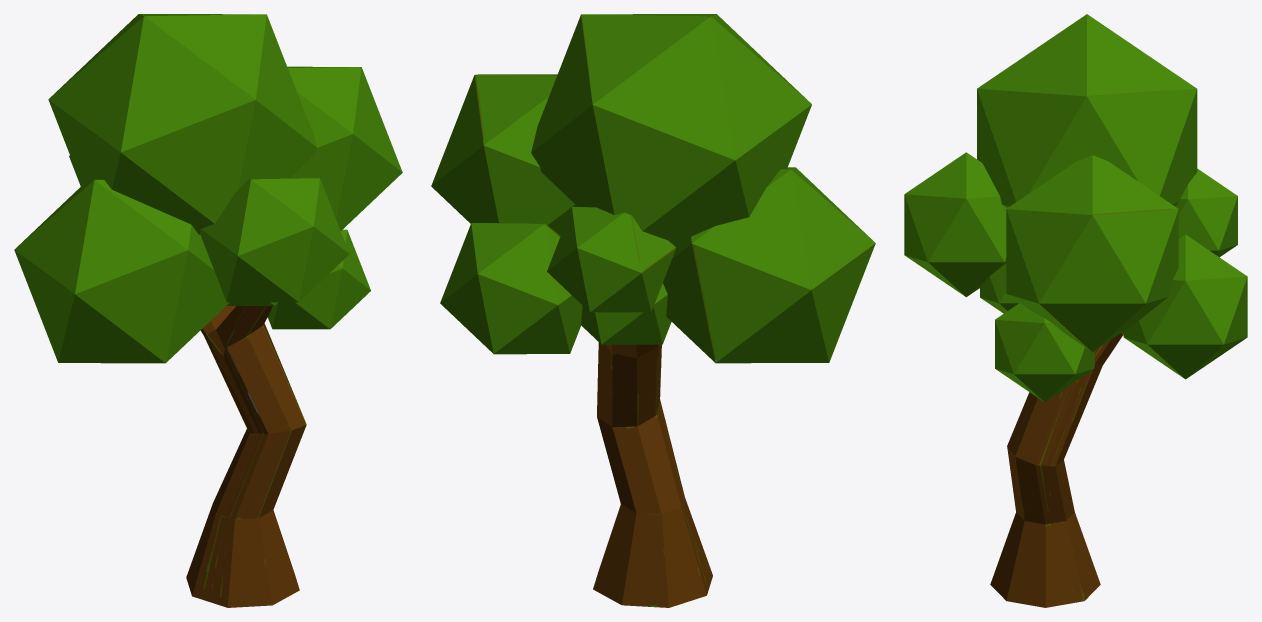
The model's file is TestTree_20241213_151107.fbx.
3 renders of one model, left to right at view 1: azimuth 30°, elevation 25°; view 2: azimuth 150°, elevation 25°; view 3: azimuth 270°, elevation 25°, orthographic. The views are drawn at different scales.
Parts seen in each view (by area): view 1: желтое б; view 2: желтое б; view 3: желтое б.
Boxes of the visible parts, x1=… form: желтое б: x1=14, y1=14, x2=402, y2=607; желтое б: x1=431, y1=14, x2=875, y2=607; желтое б: x1=904, y1=14, x2=1247, y2=607.
Size of the model in its own units: 181 by 284 by 165.
Materials: 1 (1 with a texture image).
